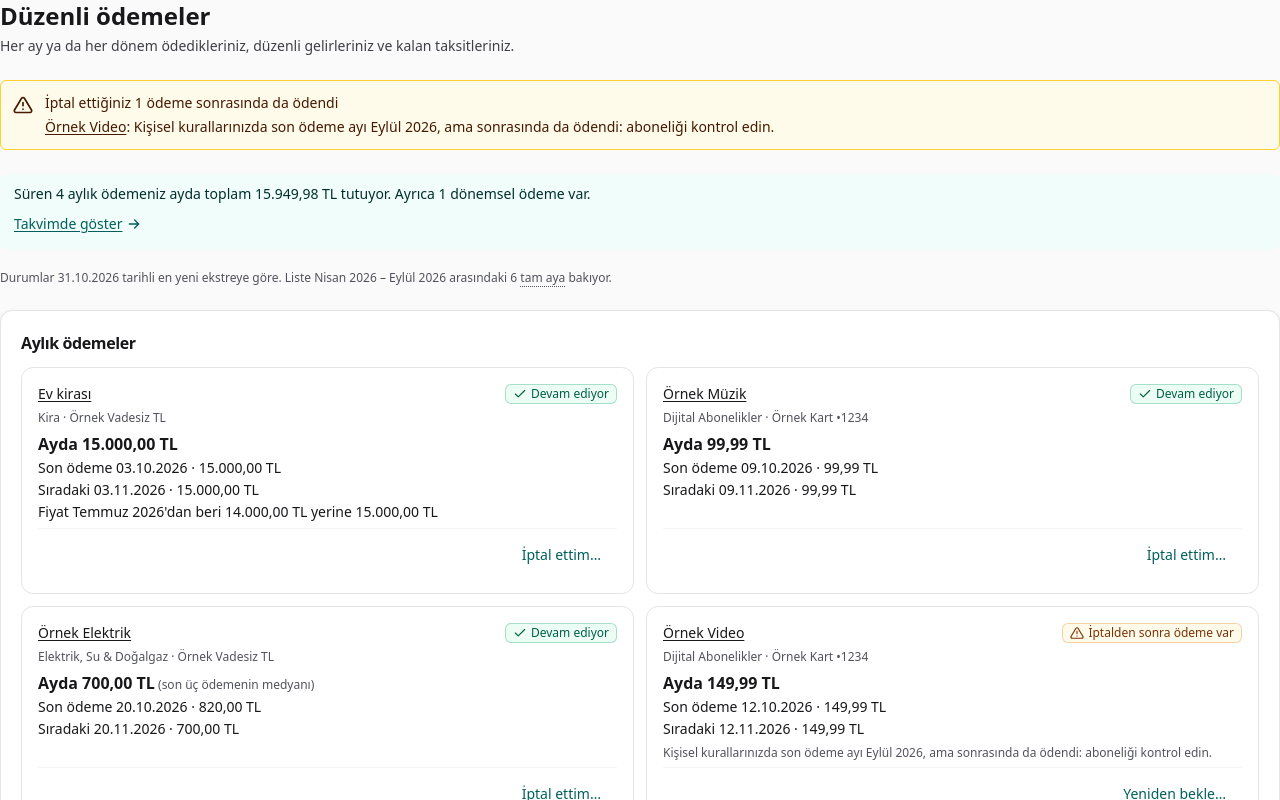
it: SubscriptionsPage › ends a payment: the month of its last payment, the change previewed, then saved
Click the button with aria-label "İptal ettim: Örnek Müzik" at (1186, 555), box [1131,533,1242,577]
(page scrolled)
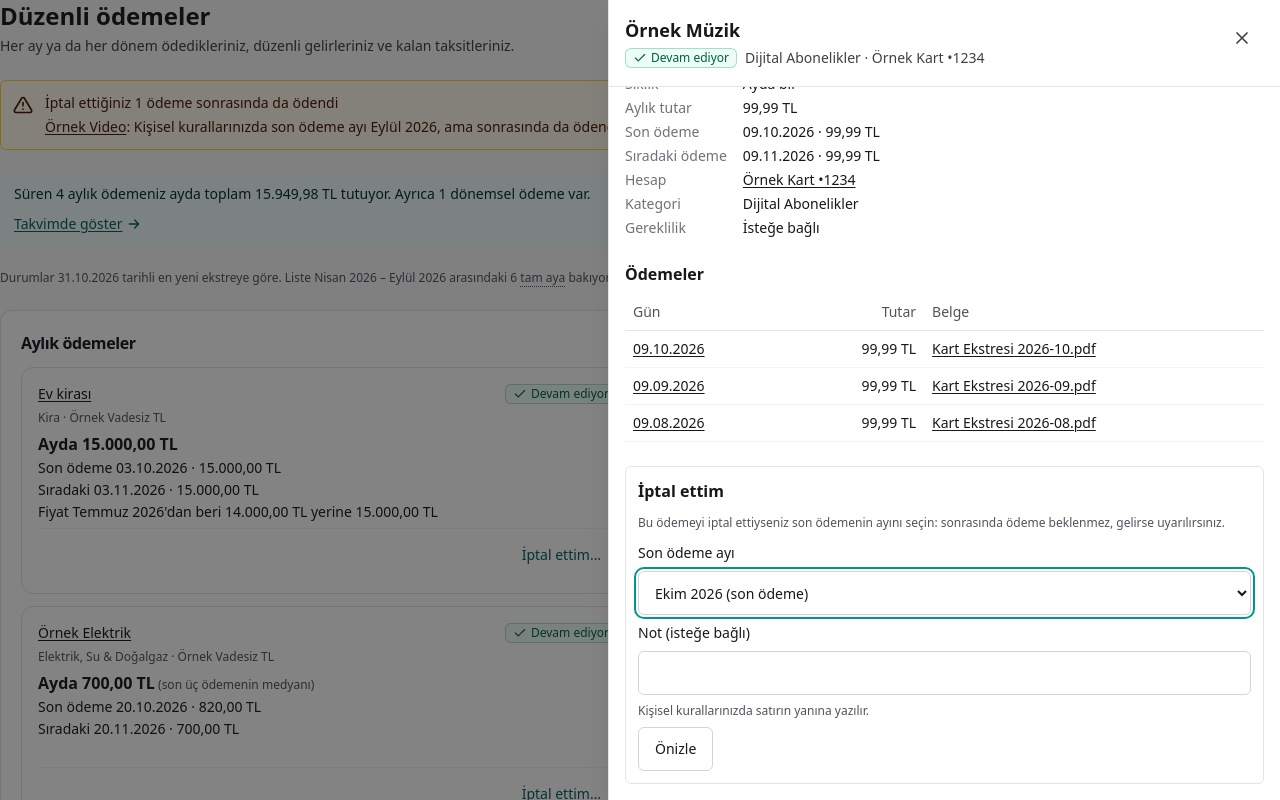
Check: the button "Kaydet" is not shown
Check: the dropdown labelled "Son ödeme ayı" shows "Ekim 2026 (son ödeme)", box [638,571,1251,615]
Type "kart değişti" into the field labelled "Not (isteğe bağlı)" at (944, 673), box [638,651,1251,695]
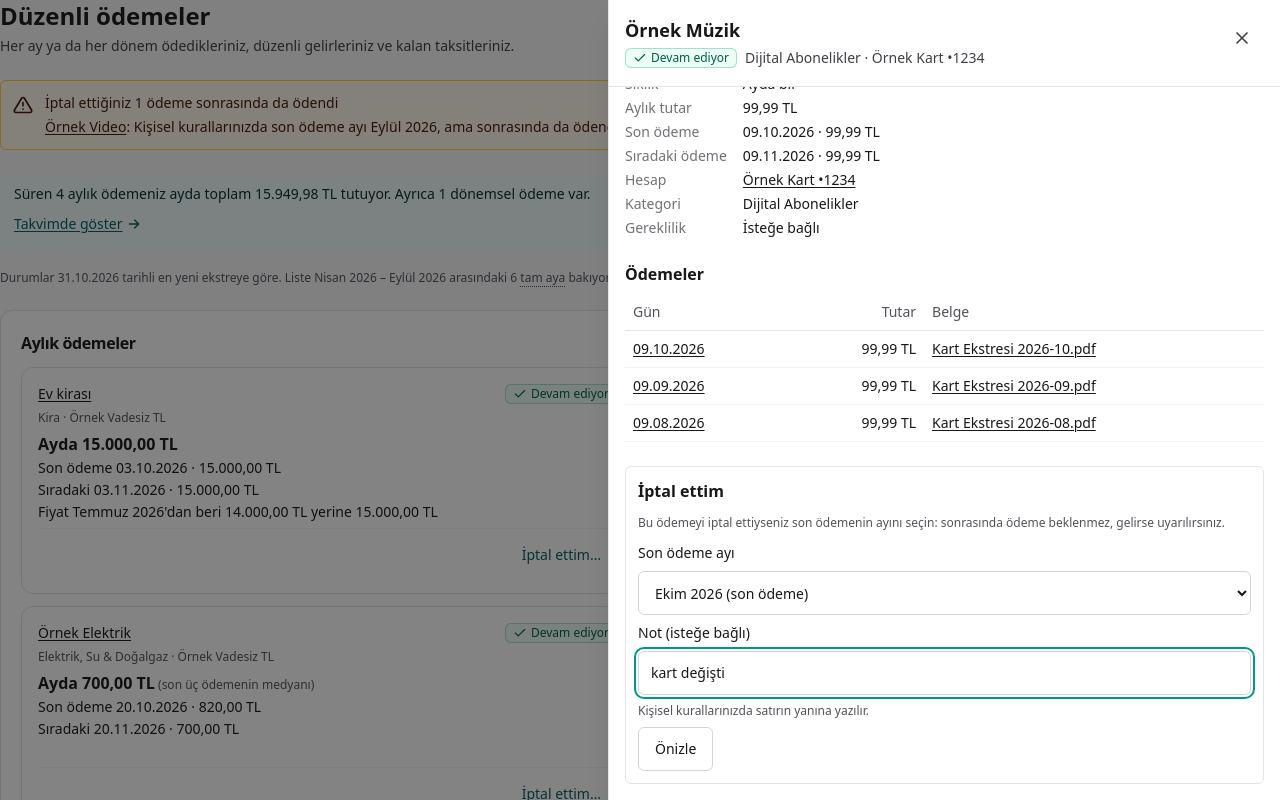
Click the button "Önizle" at (676, 749), box [638,727,713,771]
(page scrolled)
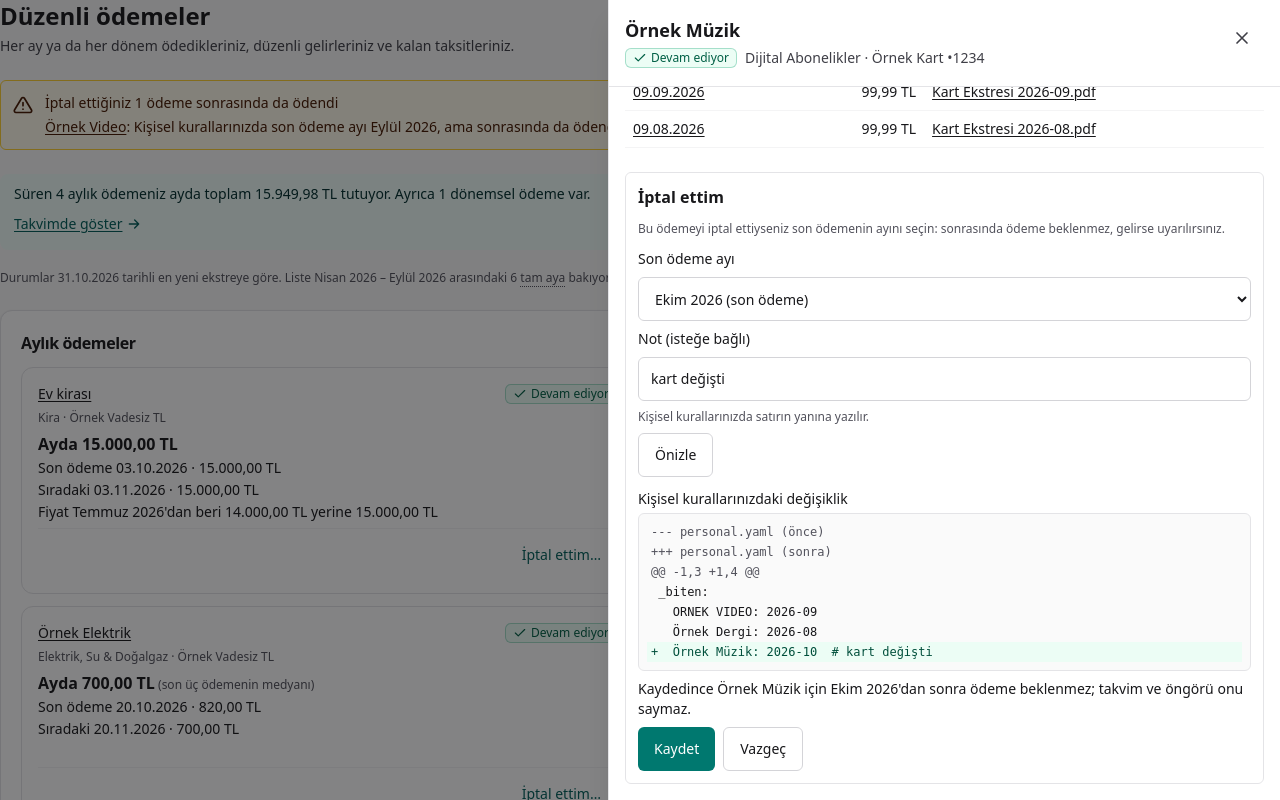
Check: the element "Kişisel kurallarınızdaki değişiklik" shows "+ Örnek Müzik: 2026-10 # kart değişti", box [651,645,933,659]
Check: the text "Kaydedince Örnek Müzik için Ekim 2026'dan sonra ödeme beklenmez; takvim ve öngörü onu saymaz." is shown, box [638,679,1243,718]
Click the button "Kaydet" at (677, 749), box [638,727,715,771]
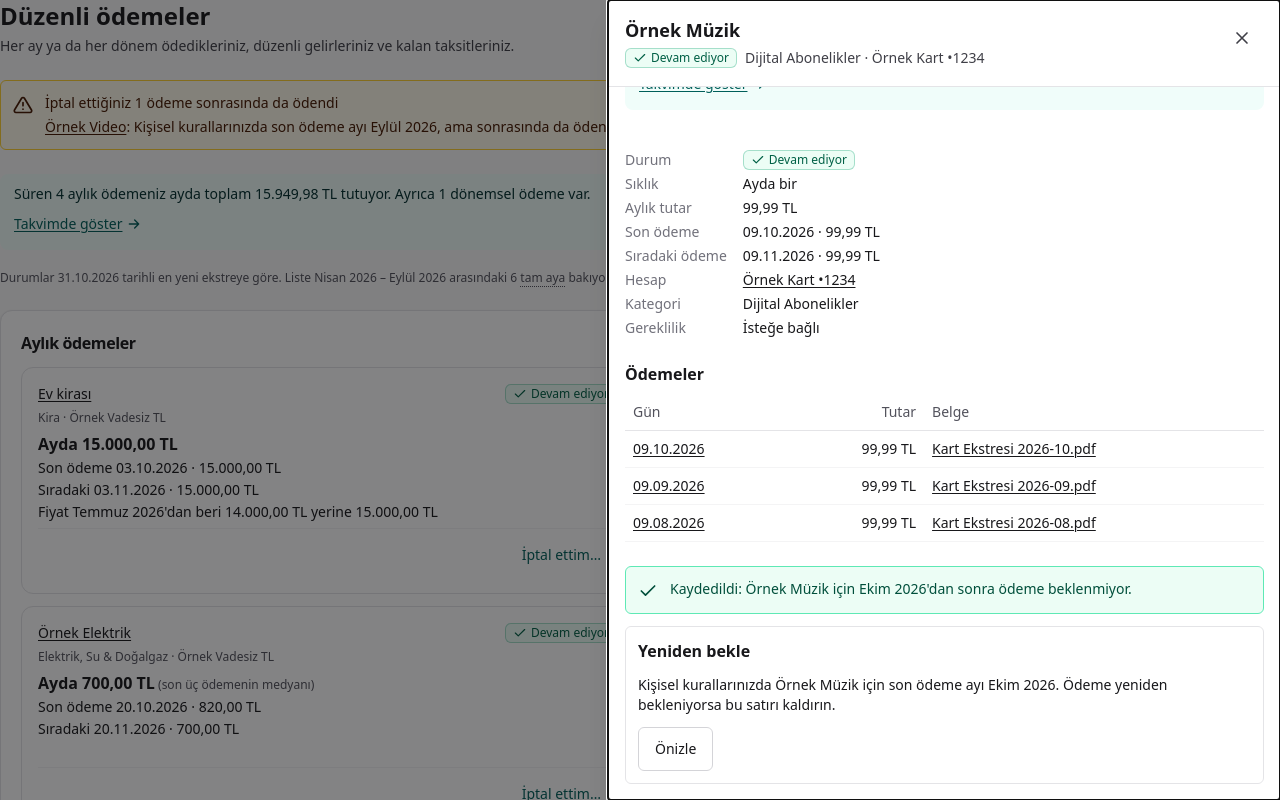
Check: the text "Kaydedildi: Örnek Müzik için Ekim 2026'dan sonra ödeme beklenmiyor." is shown, box [670,579,1132,599]
Check: the element "Yeniden bekle" is shown, box [625,626,1264,784]
